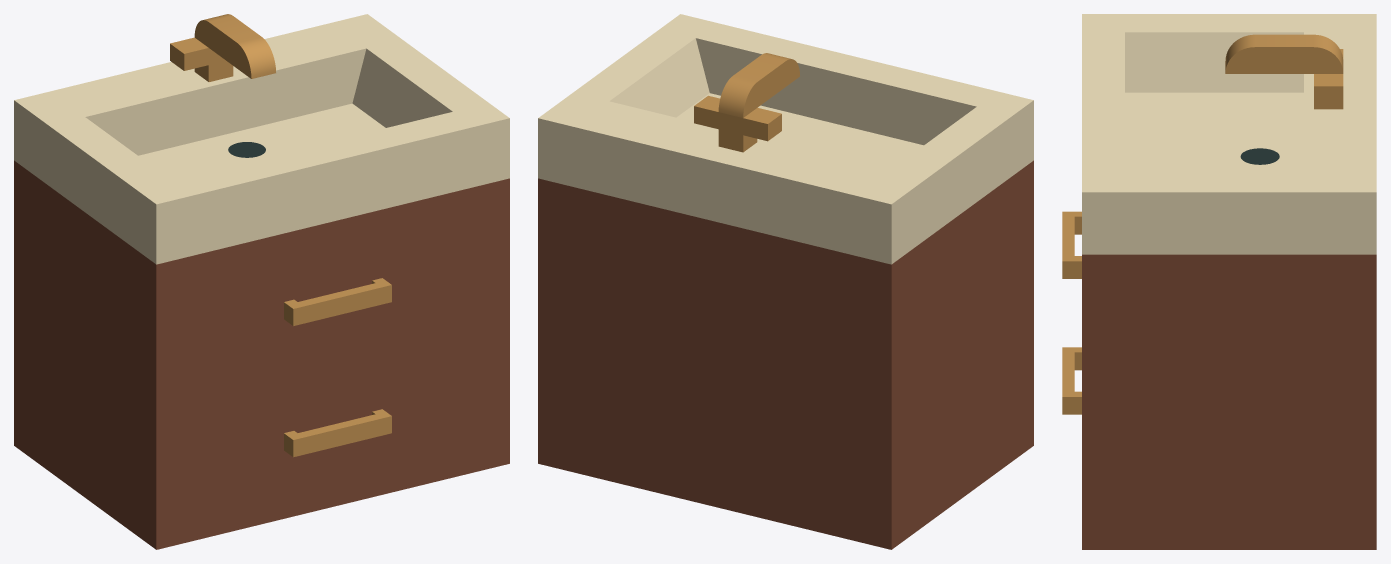
The model's file is kitchenCabinetDrawer.glb.
The picture shows the model from 3 angles, left to right: view 1: azimuth 30°, elevation 25°; view 2: azimuth 150°, elevation 25°; view 3: azimuth 270°, elevation 25°; orthographic projection. The views are drawn at different scales.
Visible parts, largest first — view 1: kitchenCabinetDrawer; view 2: kitchenCabinetDrawer; view 3: kitchenCabinetDrawer.
Boxes of the visible parts, x1,y1,x2,y2 form: kitchenCabinetDrawer: (14, 14, 509, 549); kitchenCabinetDrawer: (538, 14, 1033, 549); kitchenCabinetDrawer: (1062, 14, 1376, 549).
Size of the model in its own units: 1 by 1.1 by 0.7442.
